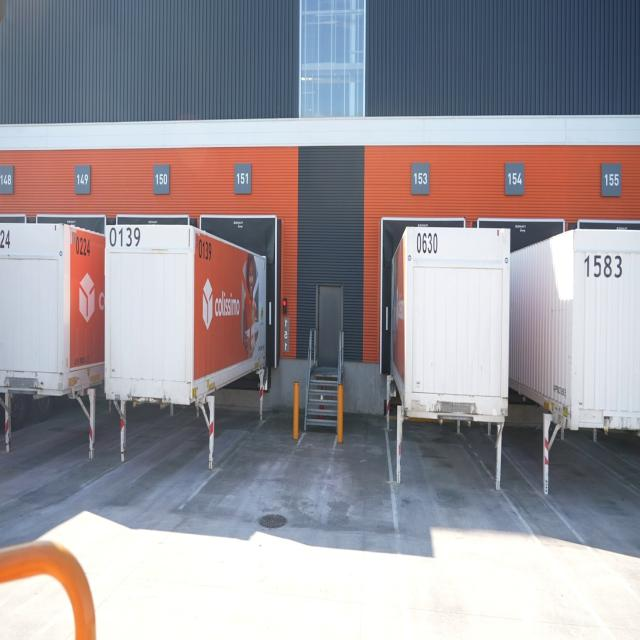Code: (581, 249, 624, 282), (108, 225, 143, 254), (195, 231, 217, 268), (73, 231, 97, 261), (414, 229, 438, 257)
